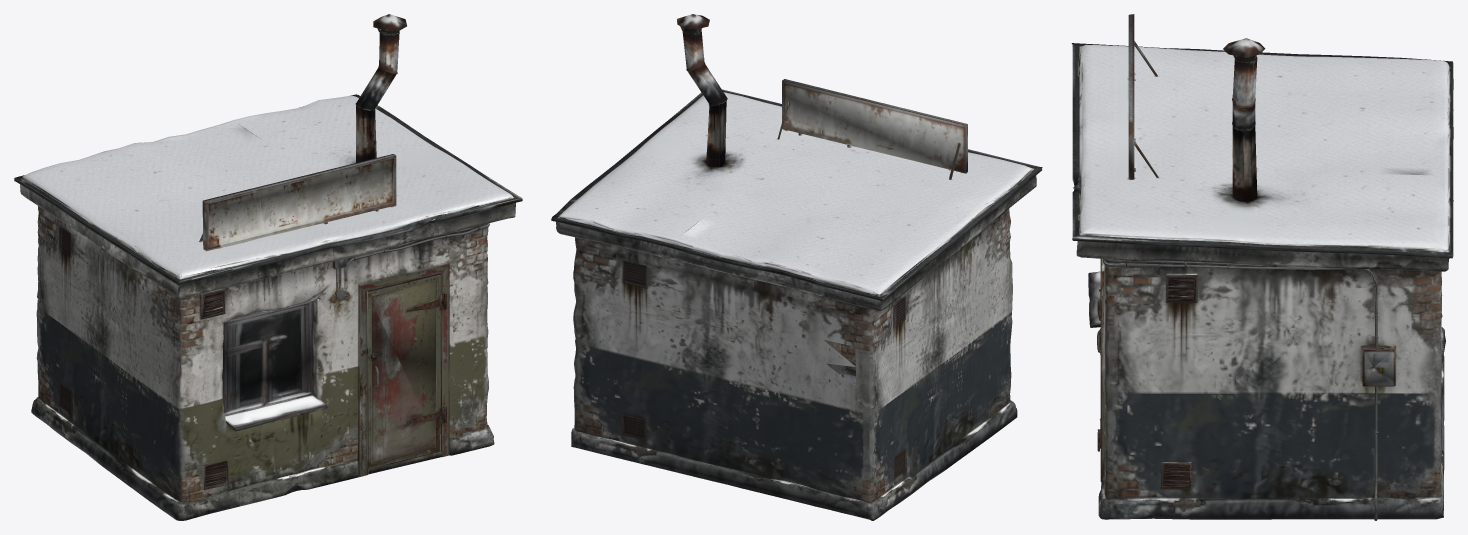
The model's file is road_rest_kiosk.glb.
3 renders of one model, left to right at view 1: azimuth 30°, elevation 25°; view 2: azimuth 150°, elevation 25°; view 3: azimuth 270°, elevation 25°, orthographic. The views are drawn at different scales.
Size of the model in its own units: 0.8726 by 0.9561 by 0.7236.
1 material, 1 textured.
